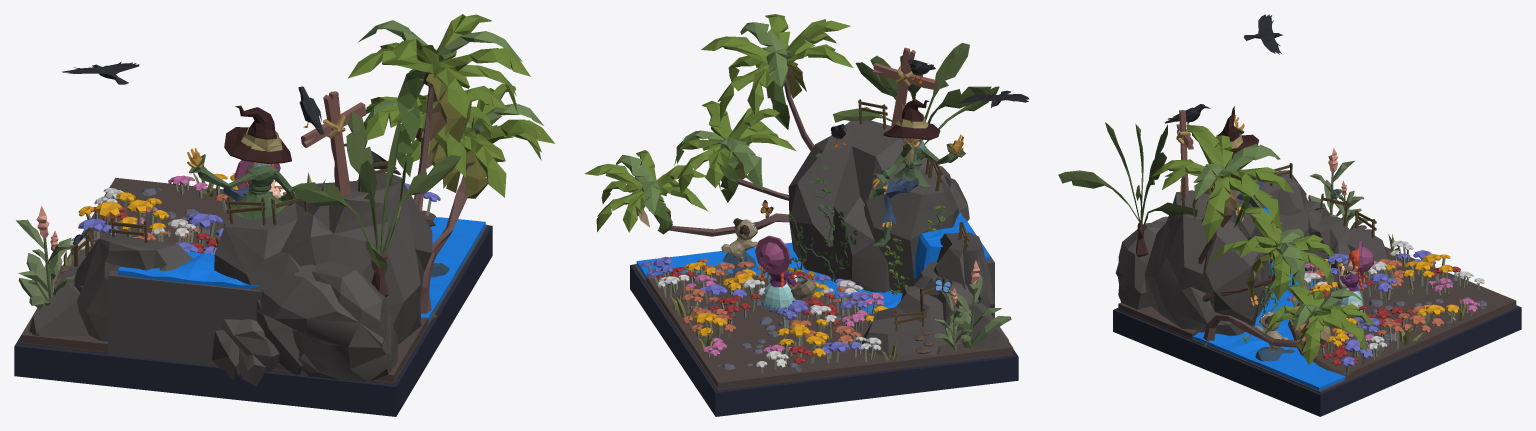
Rendered from Daocaoren_Chai_2.FBX.
The picture shows the model from 3 angles, left to right: view 1: azimuth 30°, elevation 25°; view 2: azimuth 150°, elevation 25°; view 3: azimuth 270°, elevation 25°; orthographic projection. The views are drawn at different scales.
Parts seen in each view (by area): view 1: Daocaoren518, Daocaoren504, Daocaoren521, Daocaoren506, Daocaoren471, Daocaoren477, Daocaoren520, Daocaoren508, Daocaoren457, Daocaoren524, Daocaoren463, Daocaoren503 (+21 smaller); view 2: Daocaoren518, Daocaoren508, Daocaoren504, Daocaoren471, Daocaoren519, Daocaoren463, Daocaoren477, Daocaoren457, Daocaoren520, Daocaoren503, Daocaoren485, Daocaoren446 (+30 smaller); view 3: Daocaoren518, Daocaoren504, Daocaoren508, Daocaoren471, Daocaoren503, Daocaoren463, Daocaoren457, Daocaoren477, Daocaoren521, Daocaoren519, Daocaoren472, Daocaoren520 (+12 smaller).
Boxes of the visible parts, x1,y1,x2,y2 form: Daocaoren518: [214, 170, 432, 374]; Daocaoren504: [14, 187, 492, 416]; Daocaoren521: [256, 262, 397, 382]; Daocaoren506: [108, 271, 261, 366]; Daocaoren471: [348, 14, 530, 118]; Daocaoren477: [292, 111, 461, 271]; Daocaoren520: [74, 236, 194, 341]; Daocaoren508: [21, 177, 435, 351]; Daocaoren457: [407, 83, 555, 197]; Daocaoren524: [212, 319, 279, 386]; Daocaoren463: [366, 86, 507, 177]; Daocaoren503: [421, 217, 485, 321]; Daocaoren518: [788, 120, 959, 293]; Daocaoren508: [645, 273, 1013, 388]; Daocaoren504: [630, 264, 1018, 416]; Daocaoren471: [701, 14, 853, 121]; Daocaoren519: [861, 286, 1008, 356]; Daocaoren463: [676, 101, 796, 193]; Daocaoren477: [833, 43, 999, 144]; Daocaoren457: [584, 150, 708, 232]; Daocaoren520: [933, 232, 994, 315]; Daocaoren503: [636, 242, 902, 313]; Daocaoren485: [873, 141, 965, 187]; Daocaoren446: [947, 274, 1011, 348]; Daocaoren518: [1144, 188, 1272, 335]; Daocaoren504: [1113, 305, 1521, 416]; Daocaoren508: [1288, 247, 1516, 380]; Daocaoren471: [1150, 125, 1293, 242]; Daocaoren503: [1192, 271, 1345, 390]; Daocaoren463: [1208, 207, 1334, 300]; Daocaoren457: [1261, 284, 1375, 365]; Daocaoren477: [1058, 122, 1197, 230]; Daocaoren521: [1115, 216, 1167, 309]; Daocaoren519: [1305, 216, 1388, 272]; Daocaoren472: [1193, 144, 1280, 199]; Daocaoren520: [1249, 170, 1307, 215].
Size of the model in its own units: 33.32 by 19.62 by 34.81.
